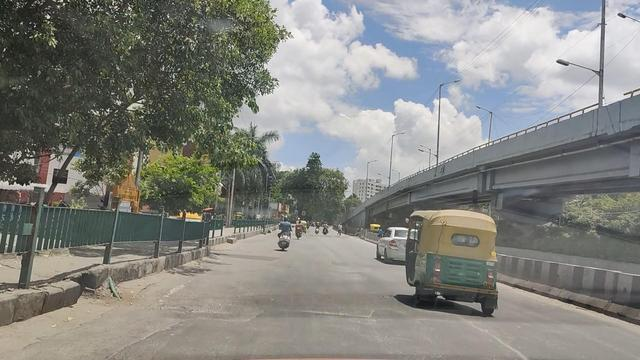LMV: (417, 213, 503, 314)
RoadDamages: (185, 288, 263, 321), (439, 326, 532, 348), (303, 295, 375, 319)
